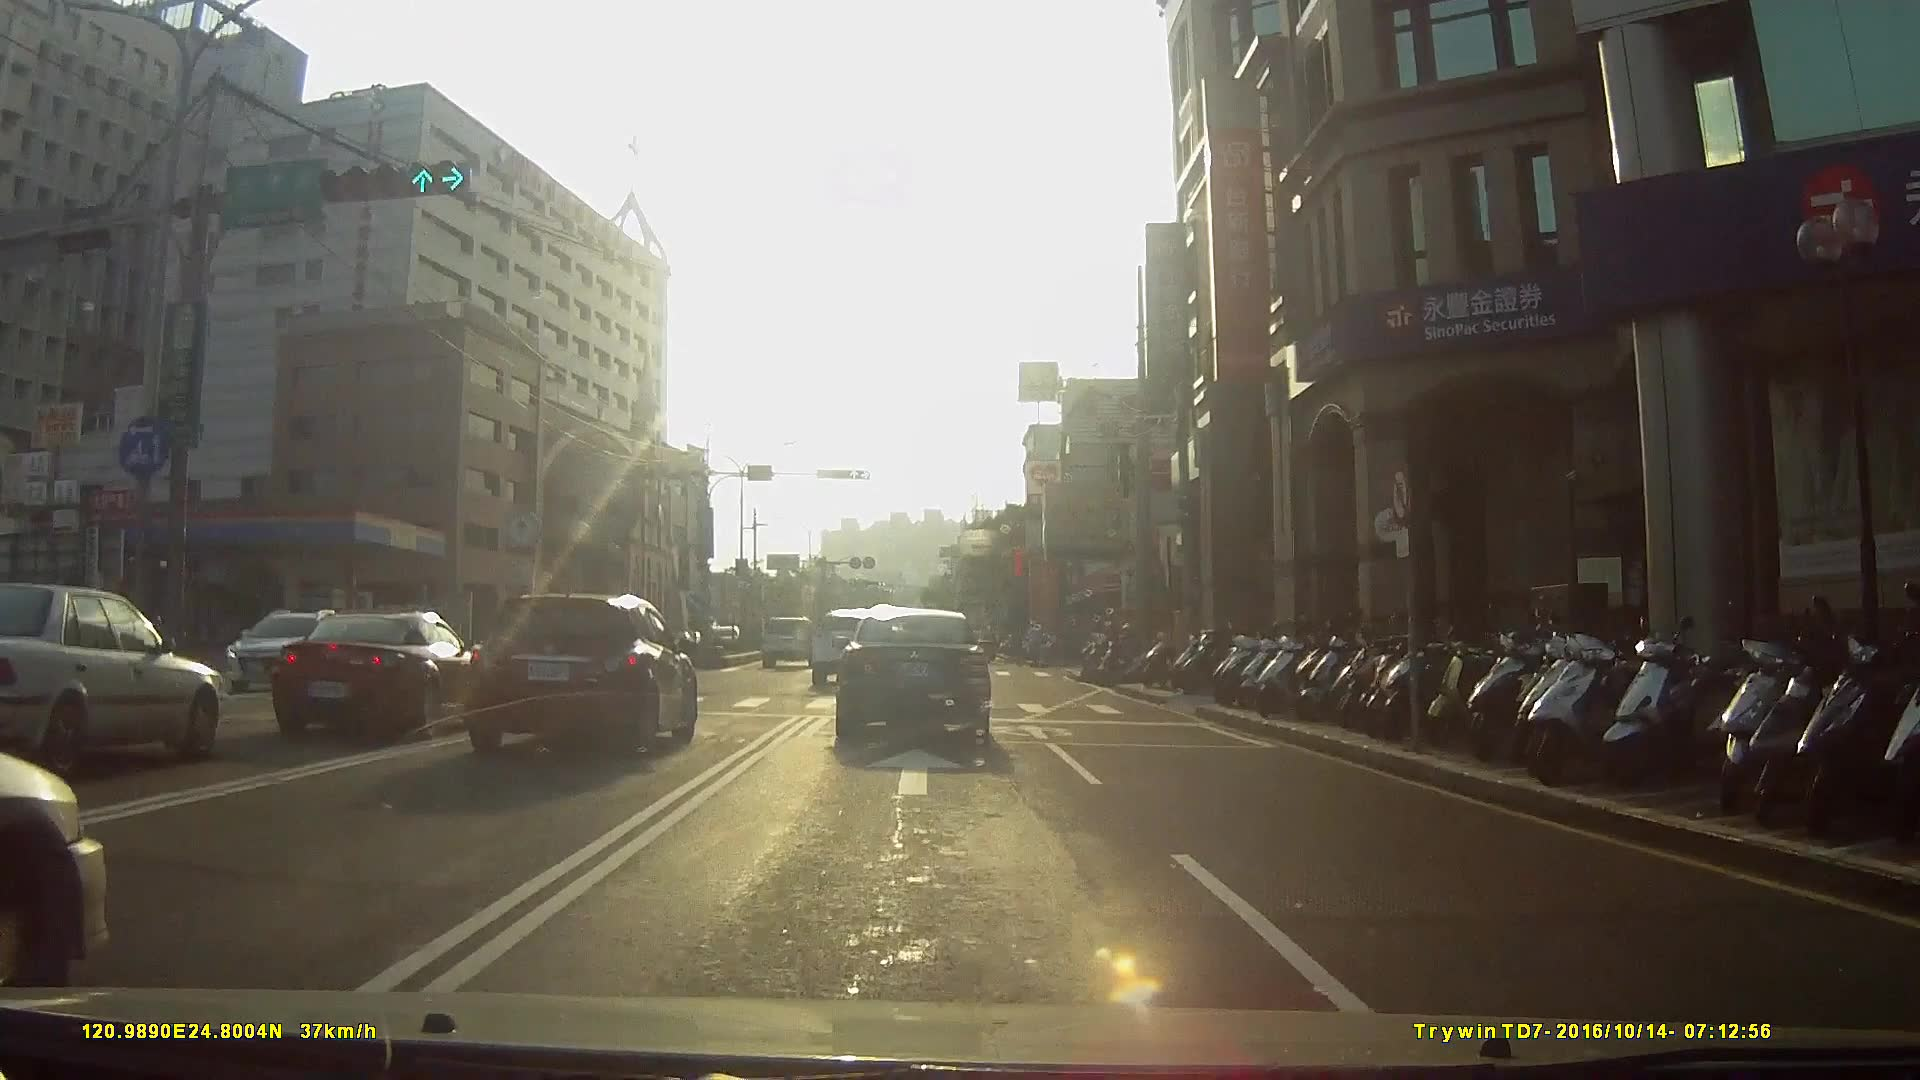rider: (1092, 621, 1164, 684)
vehicle: (1, 573, 233, 775), (456, 580, 712, 761), (250, 605, 503, 752), (830, 606, 1005, 750), (197, 604, 368, 699), (809, 607, 888, 691), (761, 615, 820, 670)
